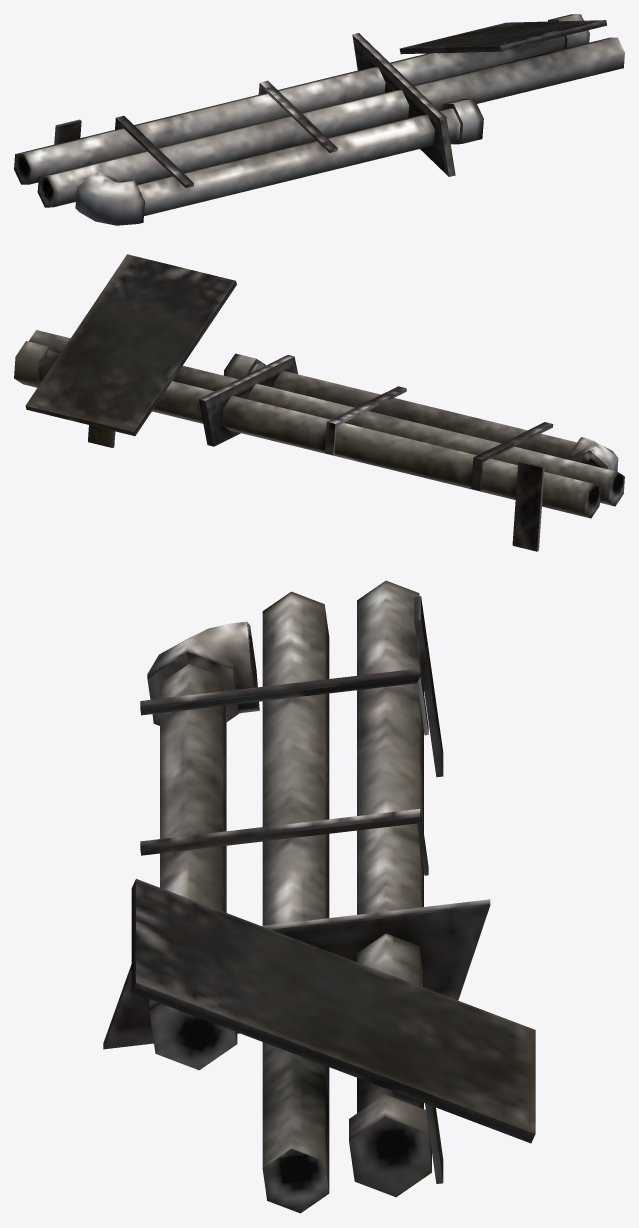
The model's file is CavalierBumper_WorldItem.fbx.
3 renders of one model, top to bottom at view 1: azimuth 30°, elevation 25°; view 2: azimuth 150°, elevation 25°; view 3: azimuth 270°, elevation 25°, orthographic. The views are drawn at different scales.
Visible parts, largest first — view 1: FrontBumper_obj; view 2: FrontBumper_obj; view 3: FrontBumper_obj.
Part boxes in pixels (bbox=[...]): FrontBumper_obj: bbox=[14, 14, 624, 225]; FrontBumper_obj: bbox=[14, 254, 624, 551]; FrontBumper_obj: bbox=[103, 580, 535, 1213].
Bounding box in the file's own units: 1.84 × 0.3671 × 0.6027.
